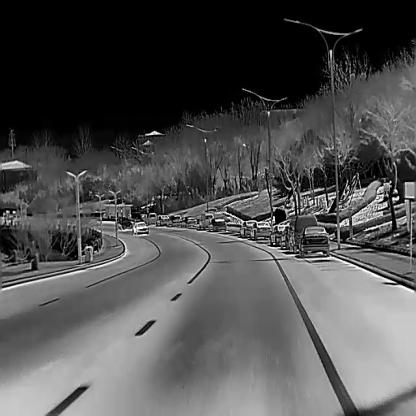car: (288, 215, 318, 251), (298, 225, 329, 256), (250, 222, 270, 238), (239, 220, 257, 236), (270, 225, 284, 245), (208, 217, 226, 230), (132, 221, 148, 235), (280, 225, 289, 249), (199, 213, 213, 228), (116, 216, 132, 228), (180, 215, 196, 227), (167, 214, 180, 225), (156, 215, 168, 225), (148, 211, 156, 223)
